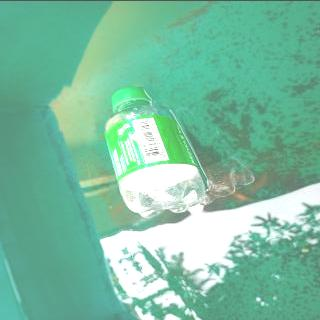bottle: (101, 84, 208, 220)
